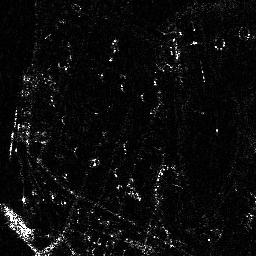ship: (1, 204, 37, 239)
